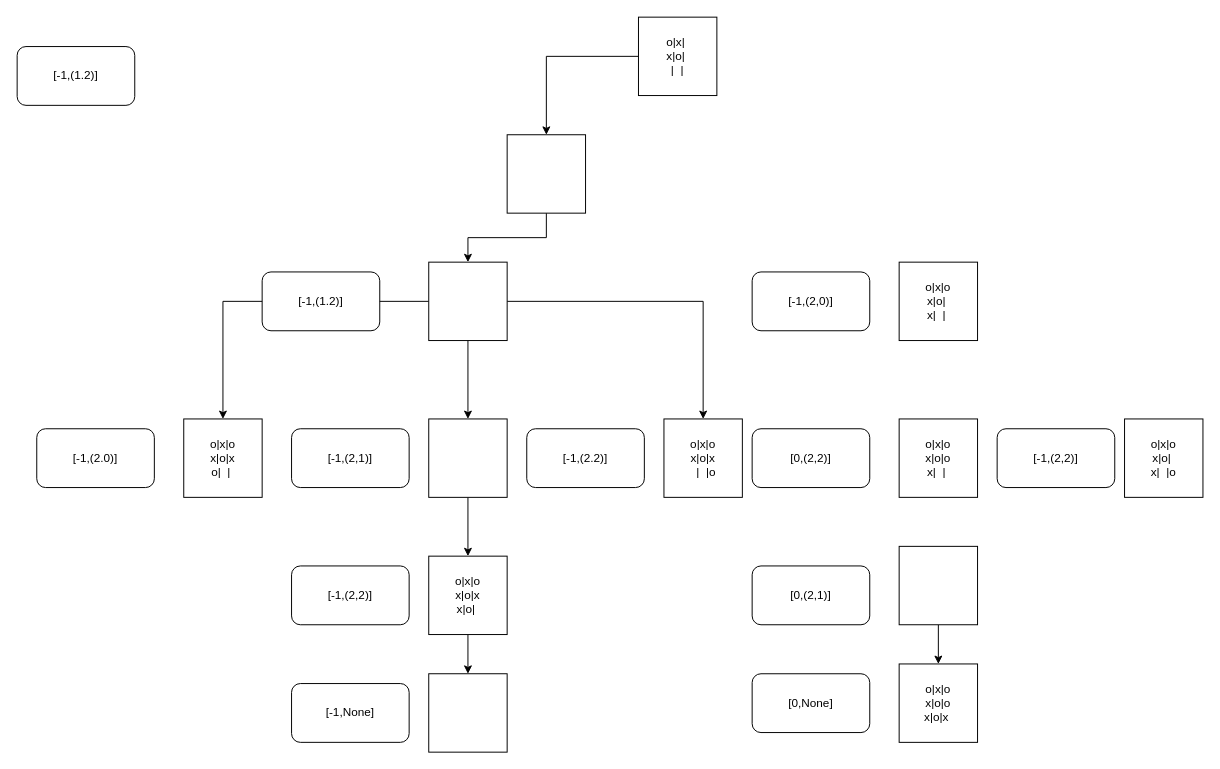
This 1220x769 diagram has some shape labels left out. Here are the shapes that lost their labels. From the top down, the centre of each, then its label:
At (546,173): "o|x|o x|o| | |".
At (467,301): "o|x|o x|o|x | |".
At (467,457): "o|x|o x|o|x |o|".
At (938,585): "o|x|o x|o|o x| |x".
At (467,712): "o|x|o x|o|x x|o|o".
